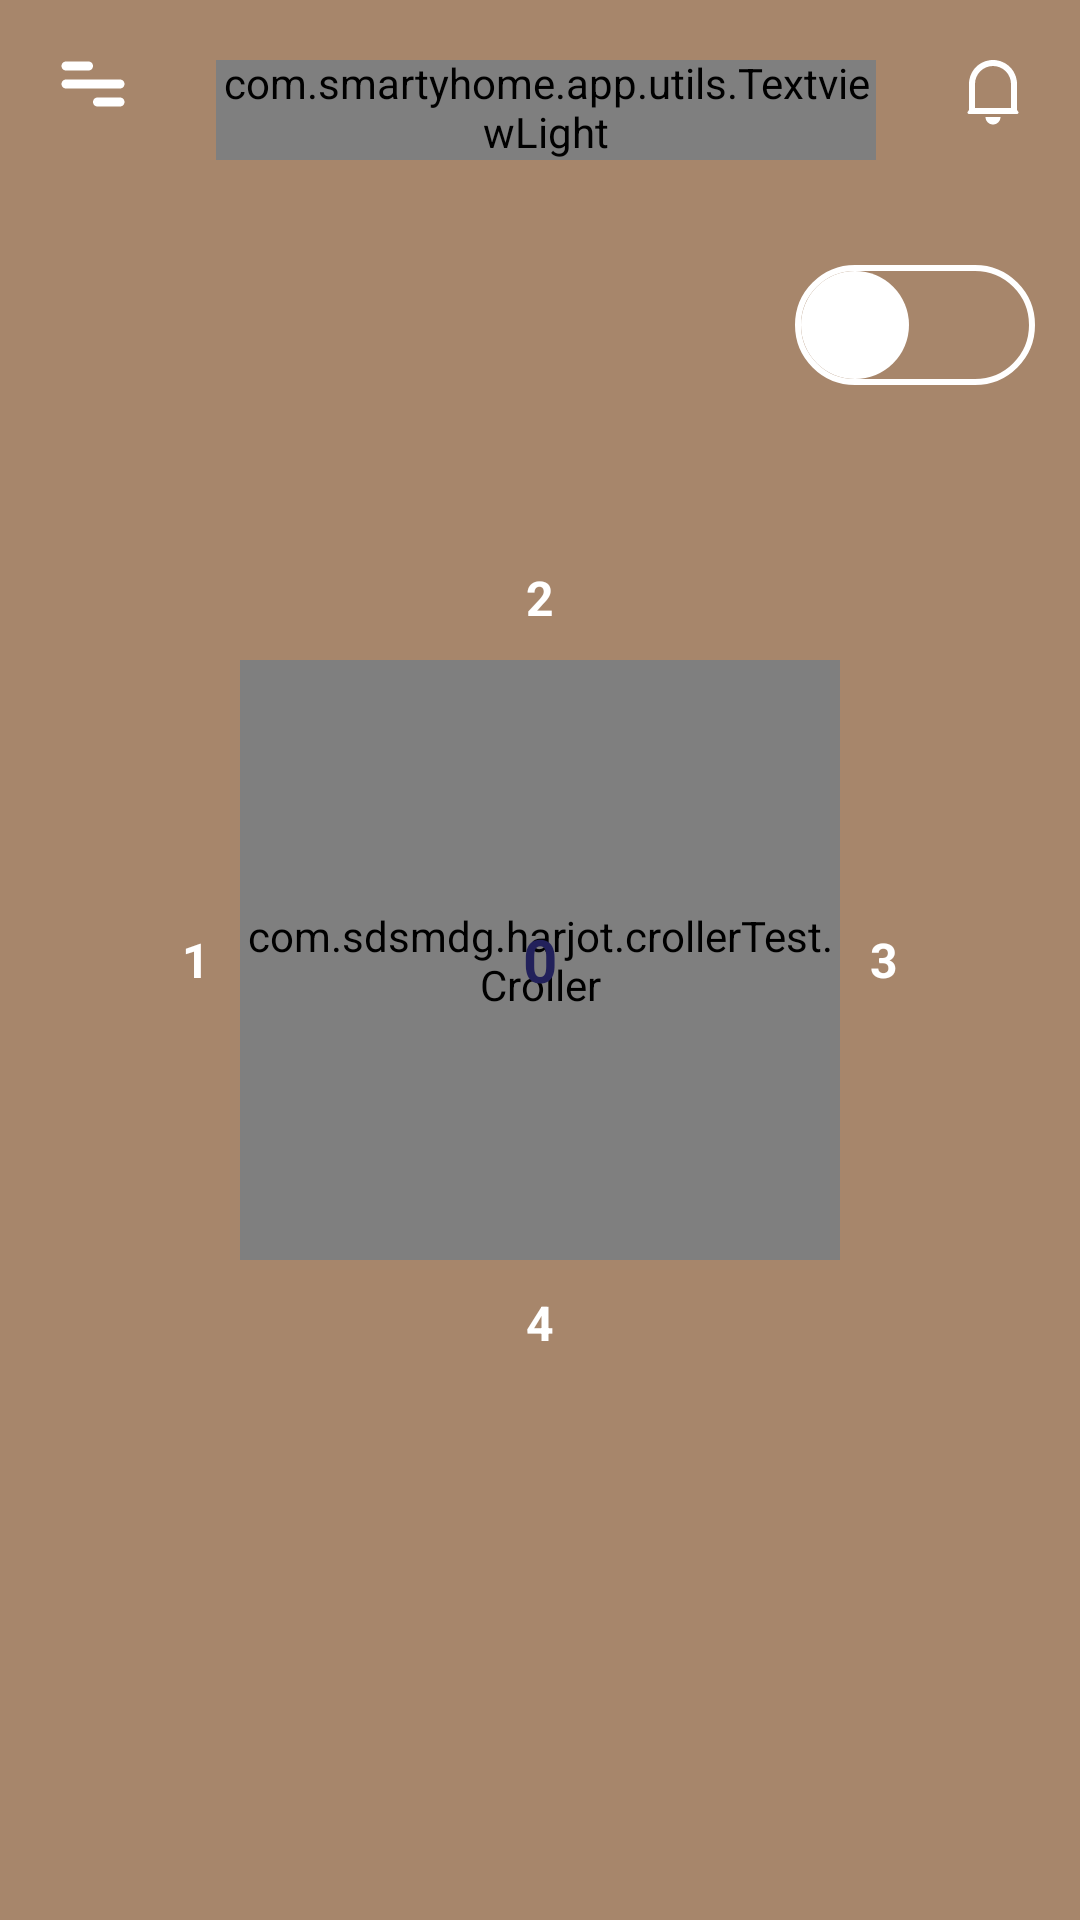

Named icons in this screenshot (1080 × 1920) and their centers, point (x, y):
bell: point (993, 92)
menu: point (93, 84)
